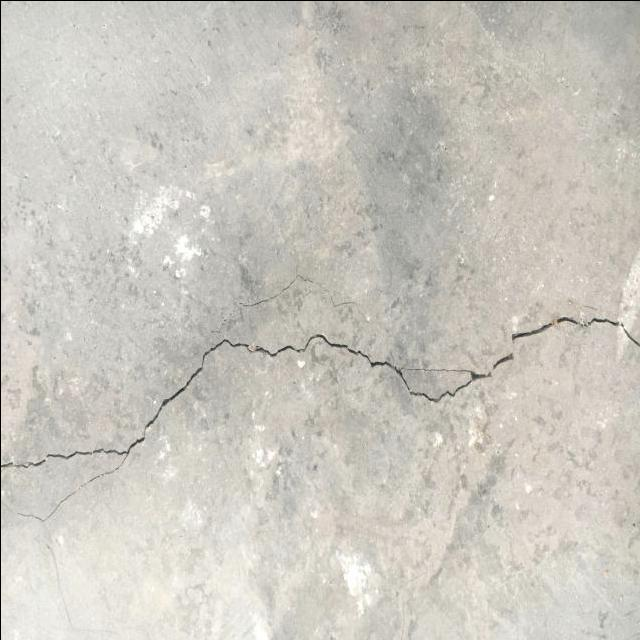SurfaceCrack: (2, 268, 640, 527)
